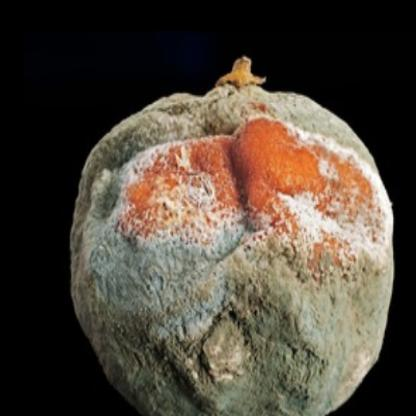rotten: (70, 58, 397, 416)
